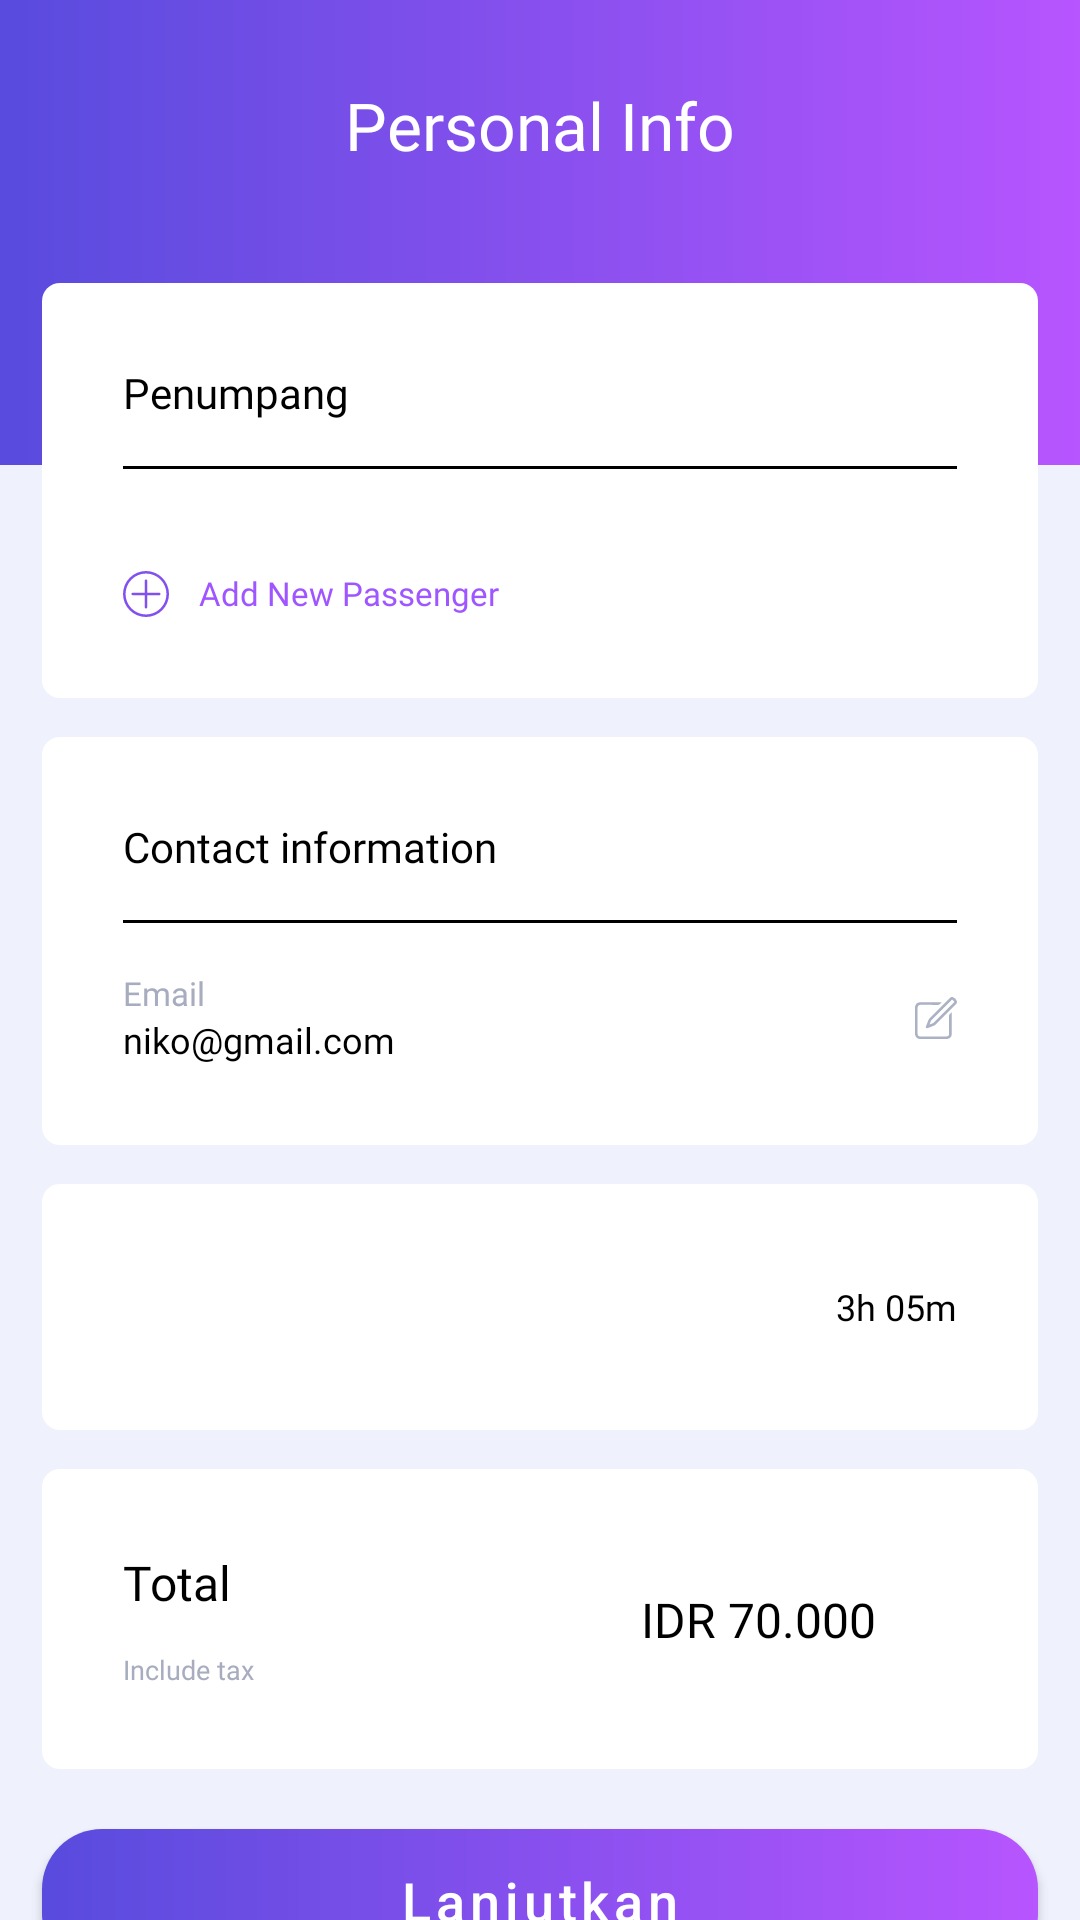

Icon click points for this 1080 × 1920 phone screenshot, format [x,y]:
edit: [936,1018]
